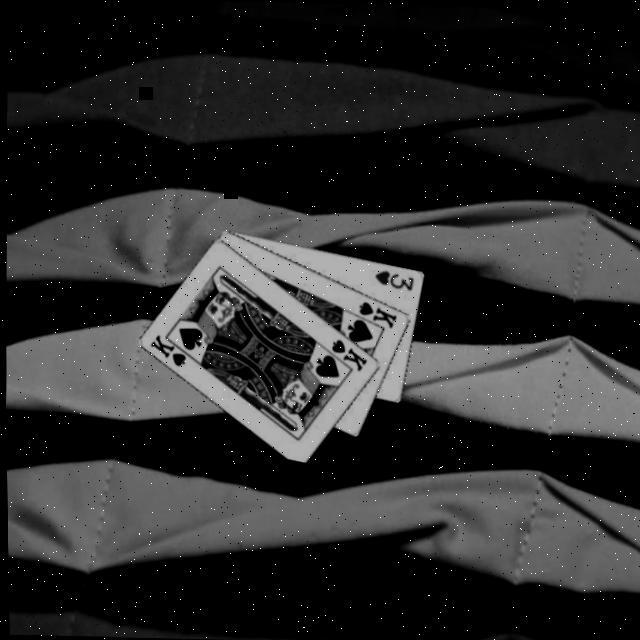3H: (372, 264, 416, 291)
KS: (146, 329, 195, 368), (327, 335, 369, 372), (354, 296, 399, 329)
